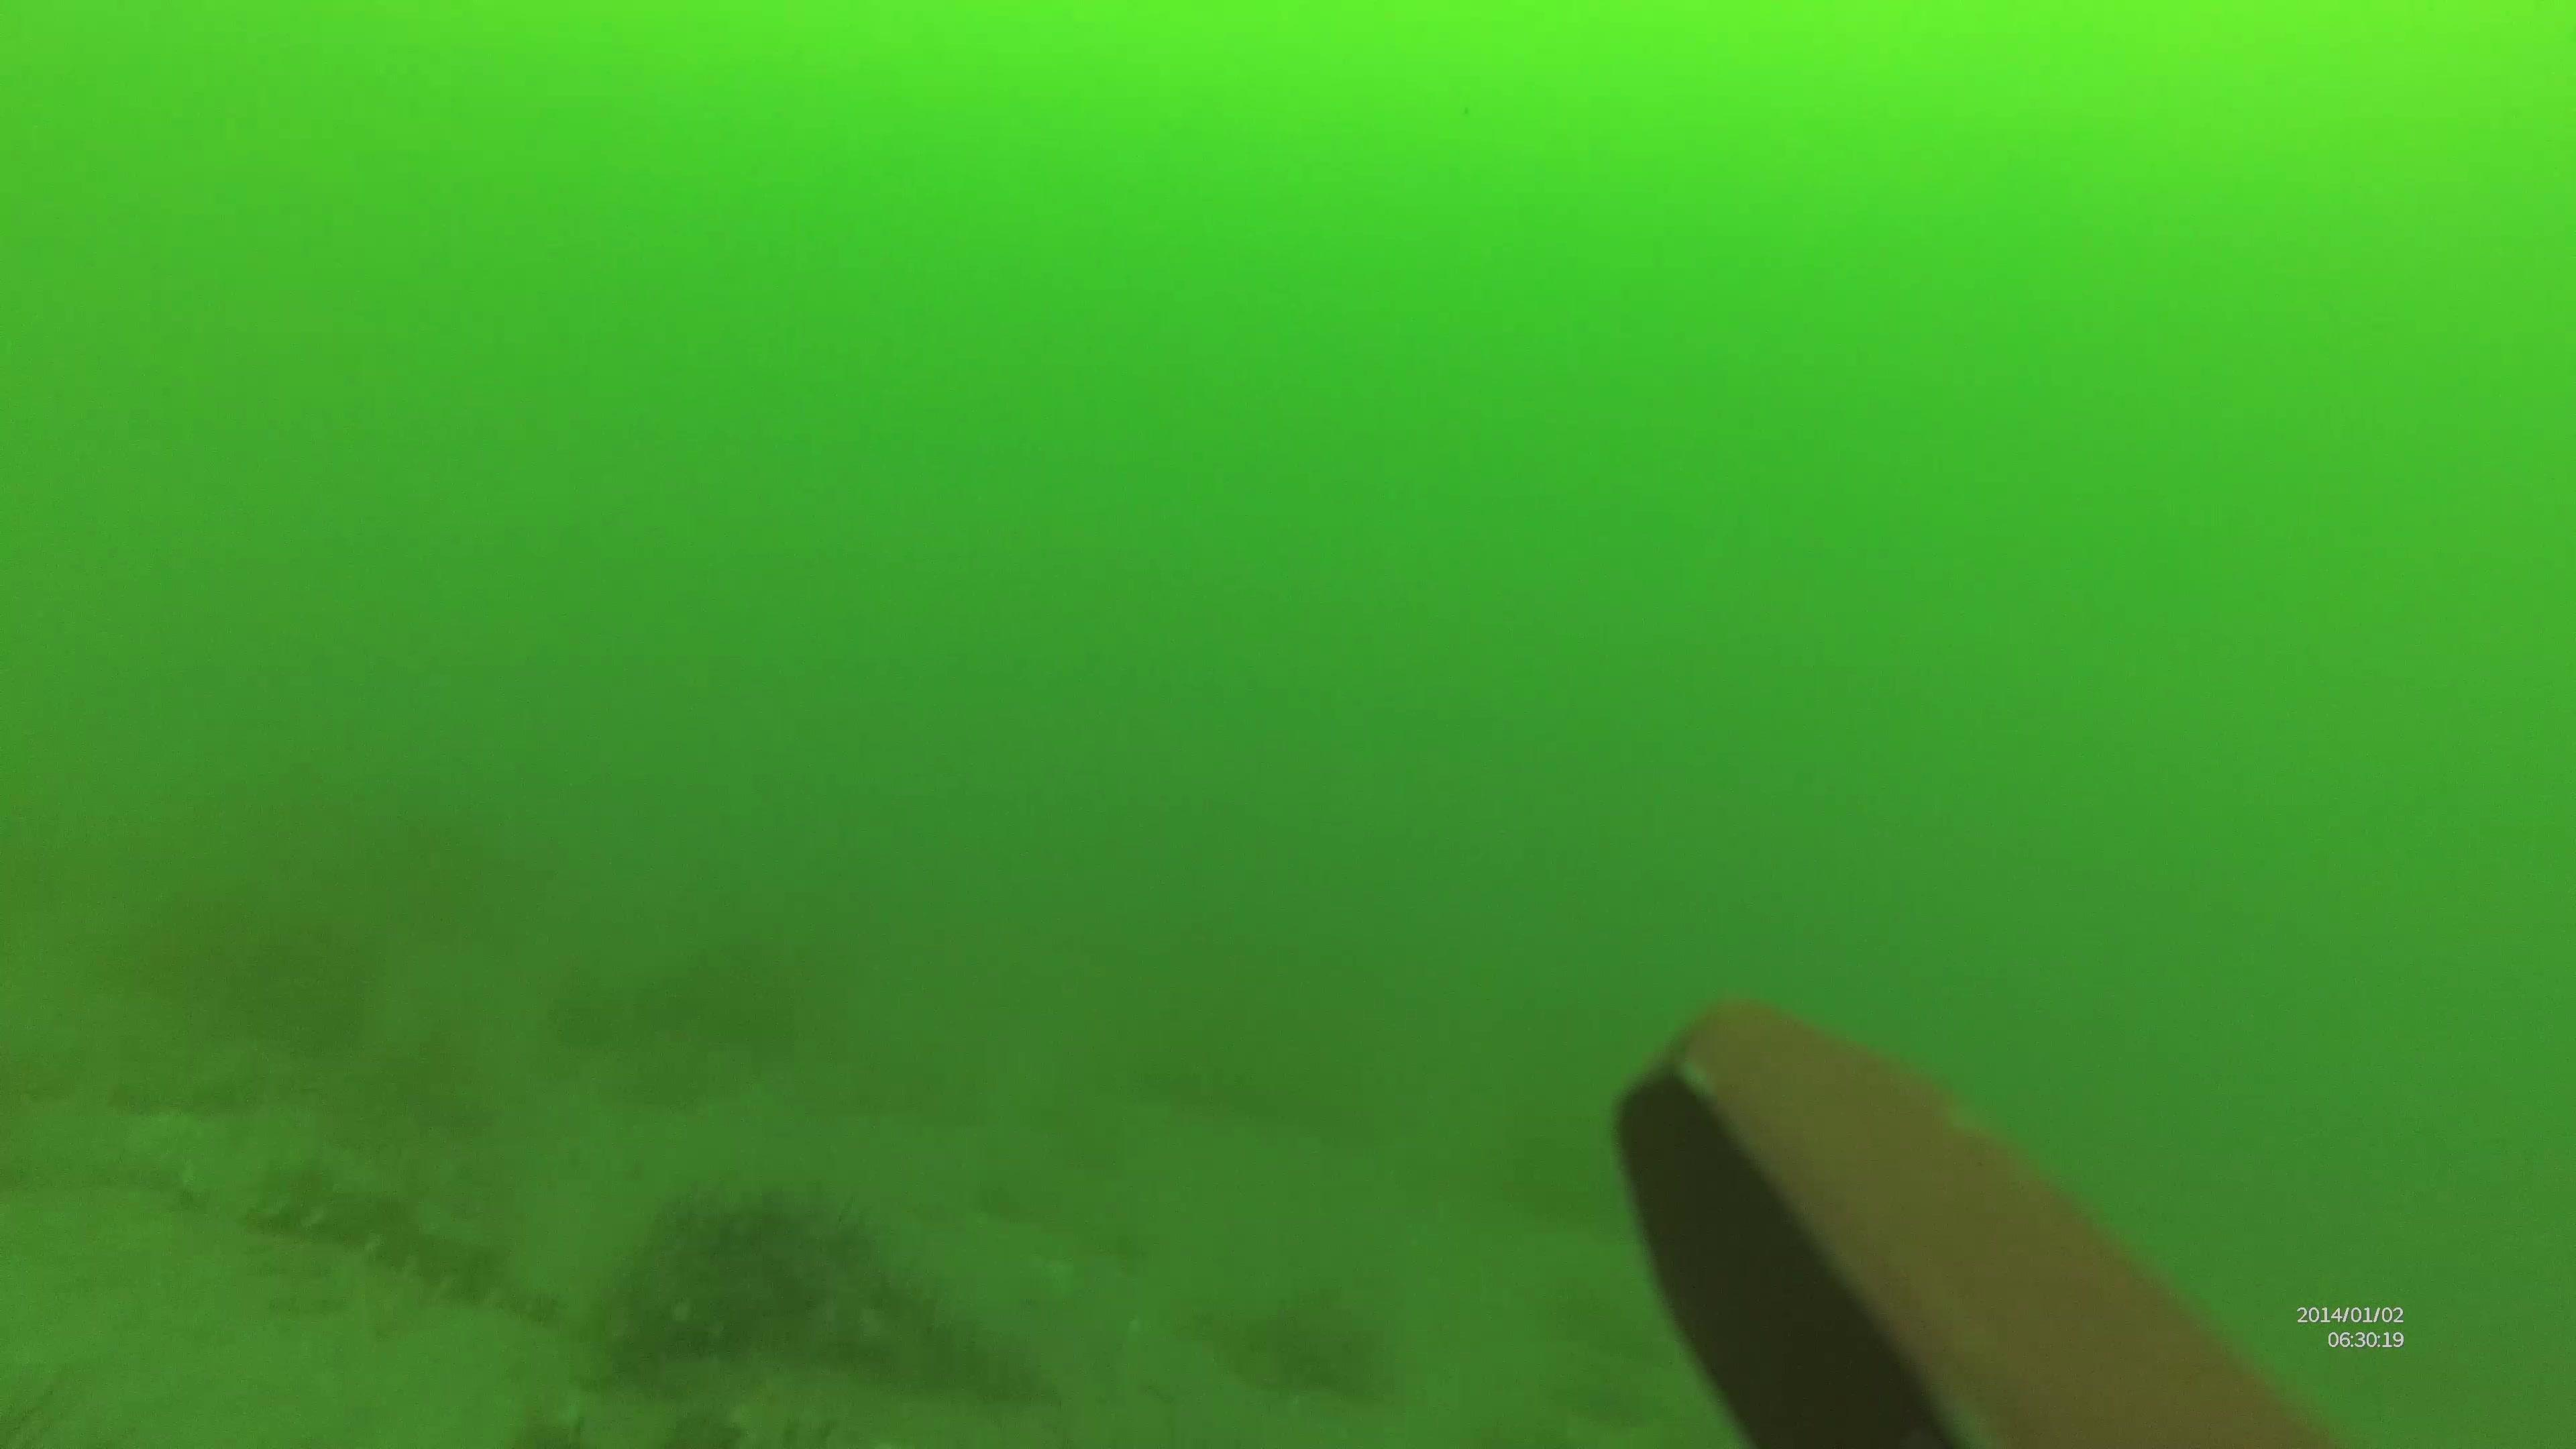holothurian: (260, 1150, 510, 1307)
